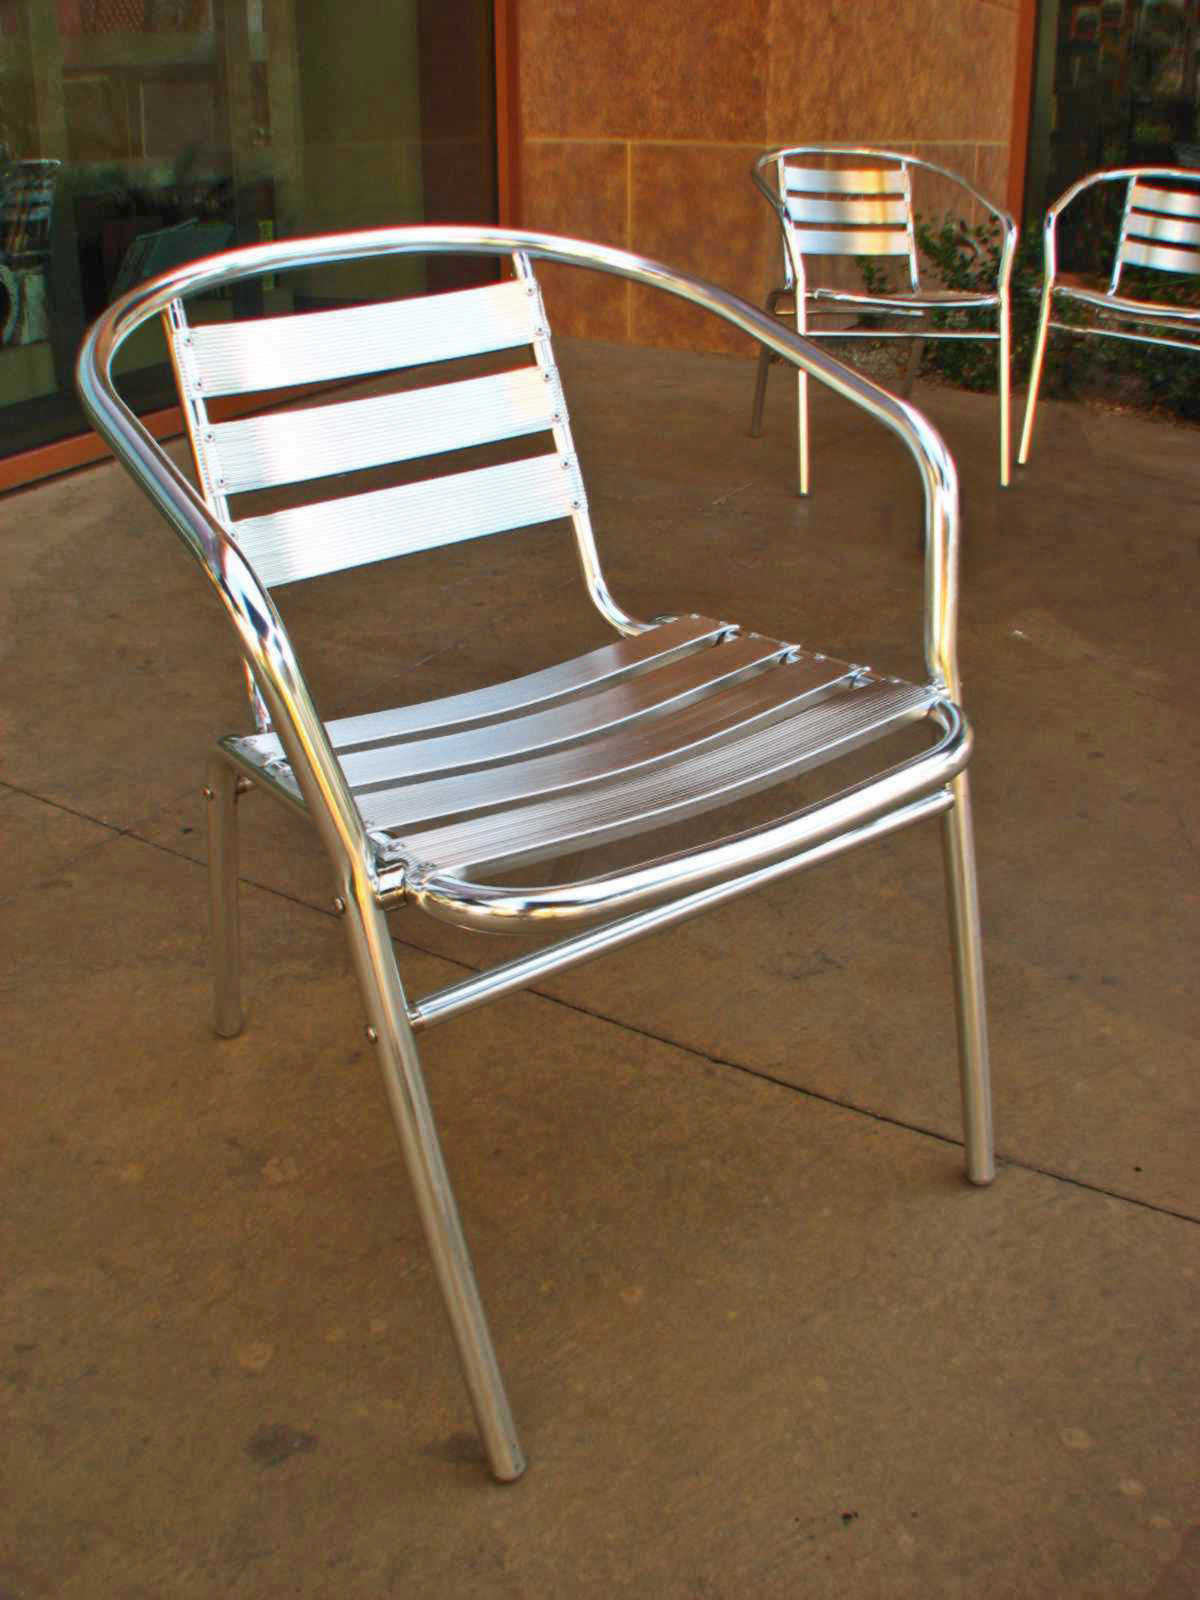chair: (16, 226, 1107, 1495), (715, 147, 1027, 503), (1025, 147, 1192, 477)
